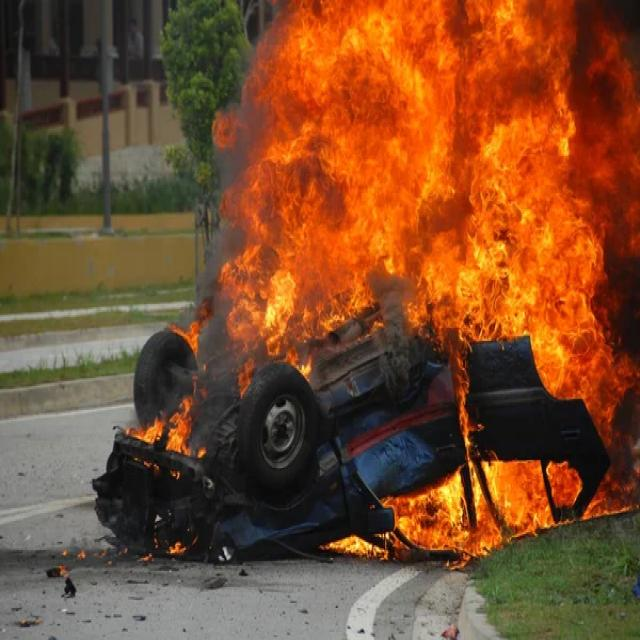fire: (224, 0, 633, 542), (134, 391, 207, 460)
